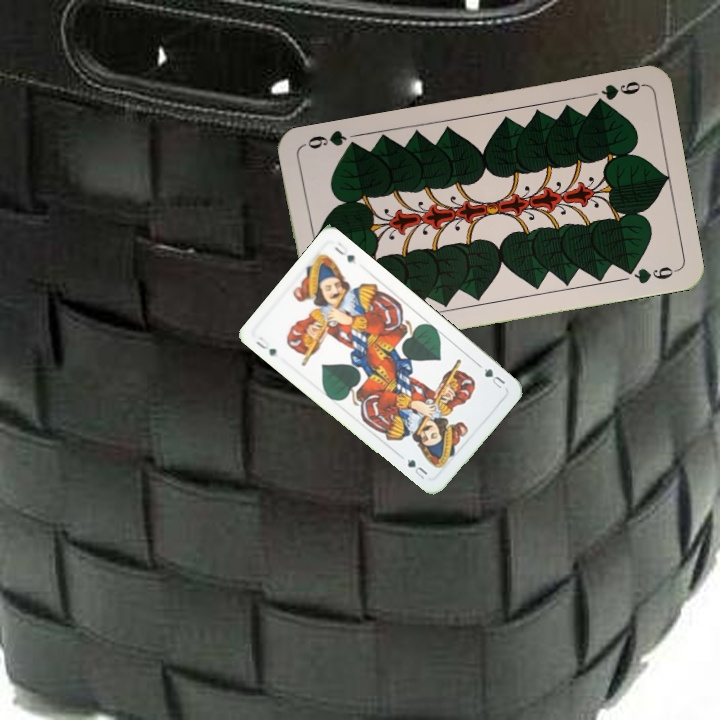G9: (589, 77, 646, 109)
GU: (474, 360, 508, 391), (252, 332, 279, 359)
